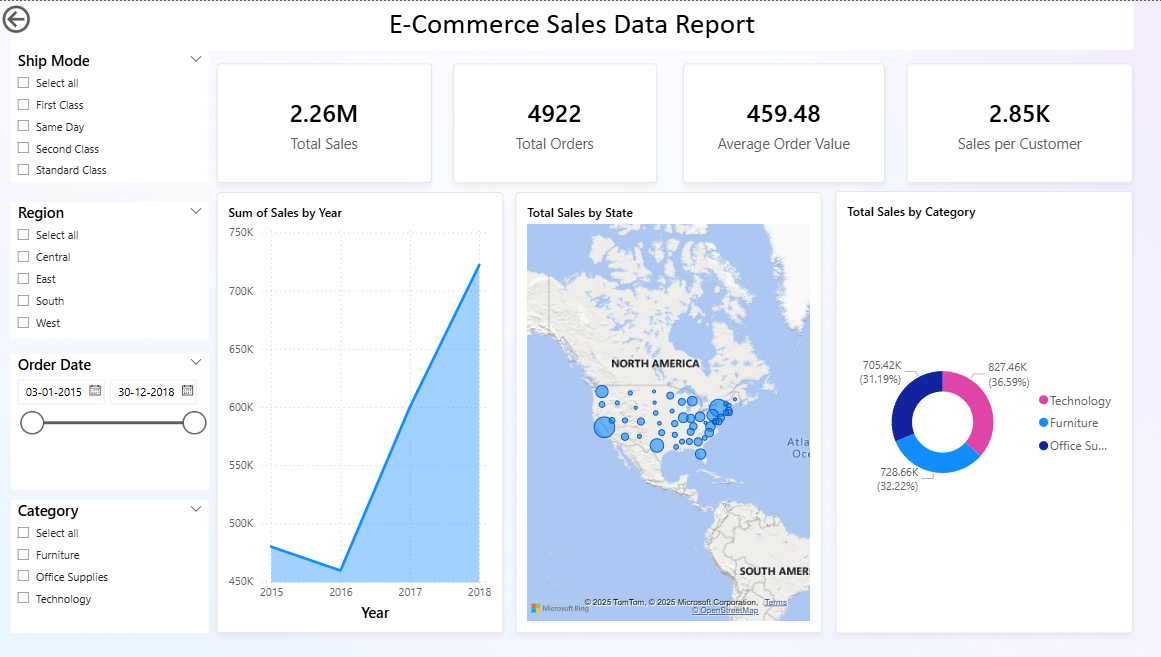

What the dashboard file says about the page in this screenshot:
{"tool":"powerbi","page":{"name":"Sales Overview","canvas":[1280,720],"ordinal":0},"visuals":[{"type":"card","fields":{"Values":["cleaned_sales_data.Total Sales"]},"box":[239.7,68.5,236,130.8],"z":0},{"type":"card","fields":{"Values":["cleaned_sales_data.Total Orders"]},"box":[498.9,68.5,223.8,130.8],"z":1000},{"type":"card","fields":{"Values":["cleaned_sales_data.Average Order Value"]},"box":[752,68.5,221.3,130.8],"z":2000},{"type":"card","fields":{"Values":["cleaned_sales_data.Sales per Customer"]},"box":[997.8,68.5,248.2,130.8],"z":3000},{"type":"areaChart","fields":{"Category":["cleaned_sales_data.Order Date.Variation.Date Hierarchy.Year","cleaned_sales_data.Order Date.Variation.Date Hierarchy.Quarter","cleaned_sales_data.Order Date.Variation.Date Hierarchy.Month","cleaned_sales_data.Order Date.Variation.Date Hierarchy.Day"],"Y":["Sum(cleaned_sales_data.Sales)"]},"box":[239.7,210.3,314.3,484.2],"z":4000},{"type":"map","fields":{"Category":["cleaned_sales_data.State"],"Size":["cleaned_sales_data.Total Sales"]},"box":[568.6,210.3,336.3,484.2],"z":5000},{"type":"donutChart","fields":{"Category":["cleaned_sales_data.Category"],"Y":["cleaned_sales_data.Total Sales"]},"box":[919.6,209.1,326.5,485.5],"z":6000},{"type":"slicer","fields":{"Values":["cleaned_sales_data.Region"]},"box":[13.5,221.3,217.7,150.4],"z":7000},{"type":"slicer","fields":{"Values":["cleaned_sales_data.Order Date"]},"box":[13.5,387.6,217.7,149.2],"z":8000},{"type":"slicer","fields":{"Values":["cleaned_sales_data.Category"]},"box":[13.5,547.8,217.7,146.7],"z":9000},{"type":"textbox","box":[13.5,0,1232.6,53.8],"z":10000},{"type":"slicer","fields":{"Values":["cleaned_sales_data.Ship Mode"]},"box":[13.5,53.8,217.7,145.5],"z":11000},{"type":"actionButton","box":[0,0,100,40],"z":12000}]}

Visuals, with their boxes in screenshot pixels (x1, y1, x2, y2), scaled from the page's 1280x720 canvas onto the 1161x657 screenshot:
card - cleaned_sales_data.Total Sales: <box>217,63,431,182</box>
card - cleaned_sales_data.Total Orders: <box>453,63,656,182</box>
card - cleaned_sales_data.Average Order Value: <box>682,63,883,182</box>
card - cleaned_sales_data.Sales per Customer: <box>905,63,1130,182</box>
areaChart - cleaned_sales_data.Order Date.Variation.Date Hierarchy.Year x cleaned_sales_data.Order Date.Variation.Date Hierarchy.Quarter: <box>217,192,502,634</box>
map - cleaned_sales_data.State x cleaned_sales_data.Total Sales: <box>516,192,821,634</box>
donutChart - cleaned_sales_data.Category x cleaned_sales_data.Total Sales: <box>834,191,1130,634</box>
slicer - cleaned_sales_data.Region: <box>12,202,210,339</box>
slicer - cleaned_sales_data.Order Date: <box>12,354,210,490</box>
slicer - cleaned_sales_data.Category: <box>12,500,210,634</box>
textbox: <box>12,0,1130,49</box>
slicer - cleaned_sales_data.Ship Mode: <box>12,49,210,182</box>
actionButton: <box>0,0,91,36</box>
